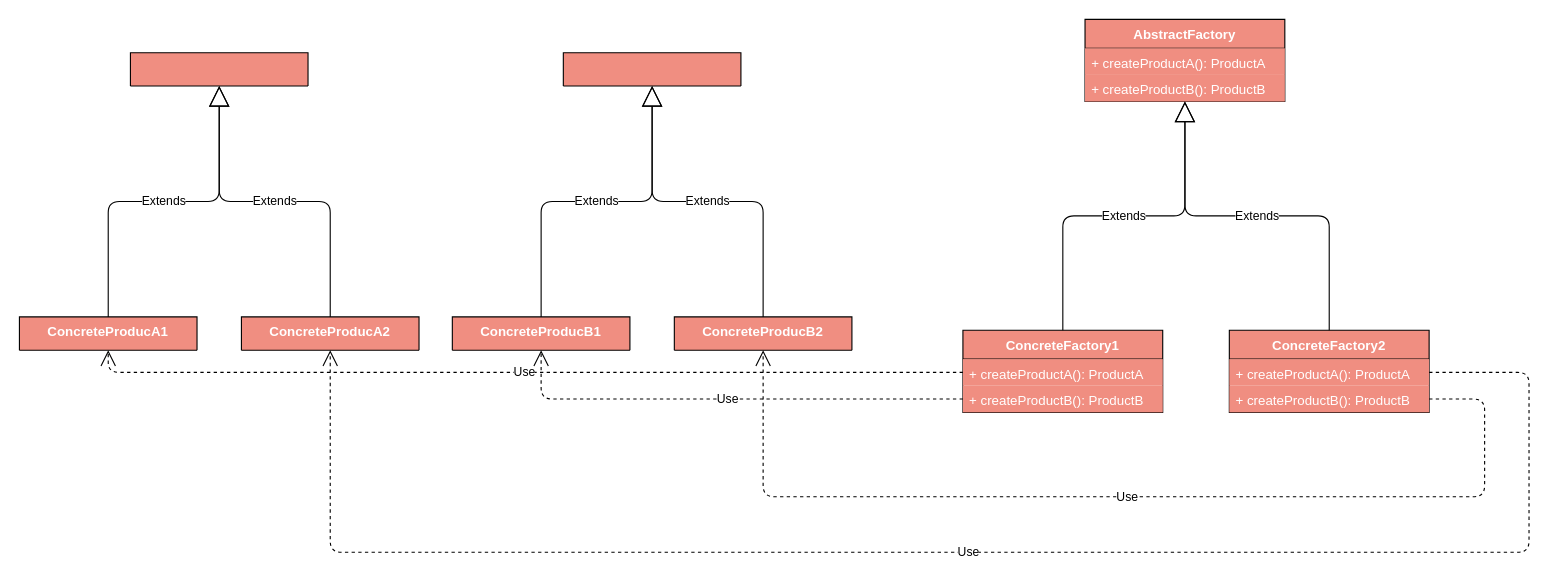
Image size: 1564x587. Some labels were removed from this diagram. Each missing label, with the centre of its shape:
"AbstractProductA" goes at (218,69).
"AbstractProductB" goes at (651,69).
